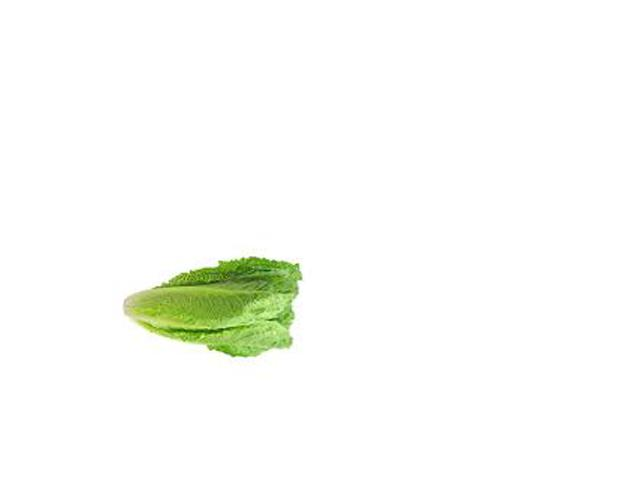lettuce: (115, 241, 308, 372)
